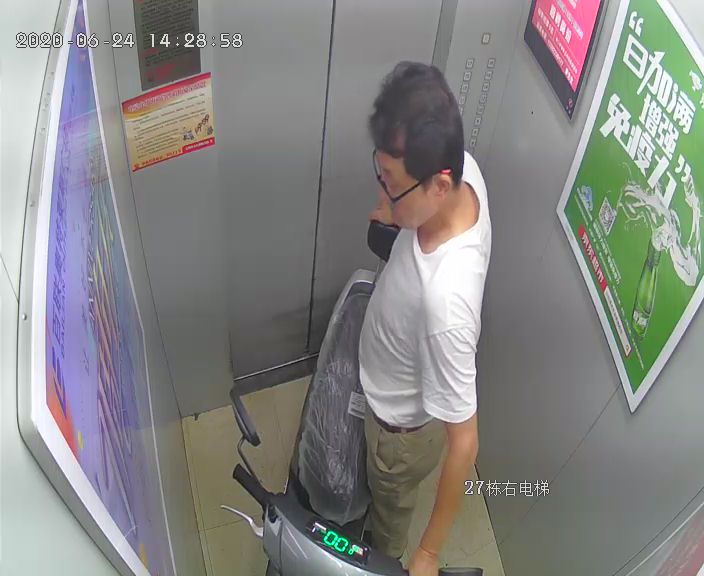Electric-bicycle: (227, 214, 479, 576)
